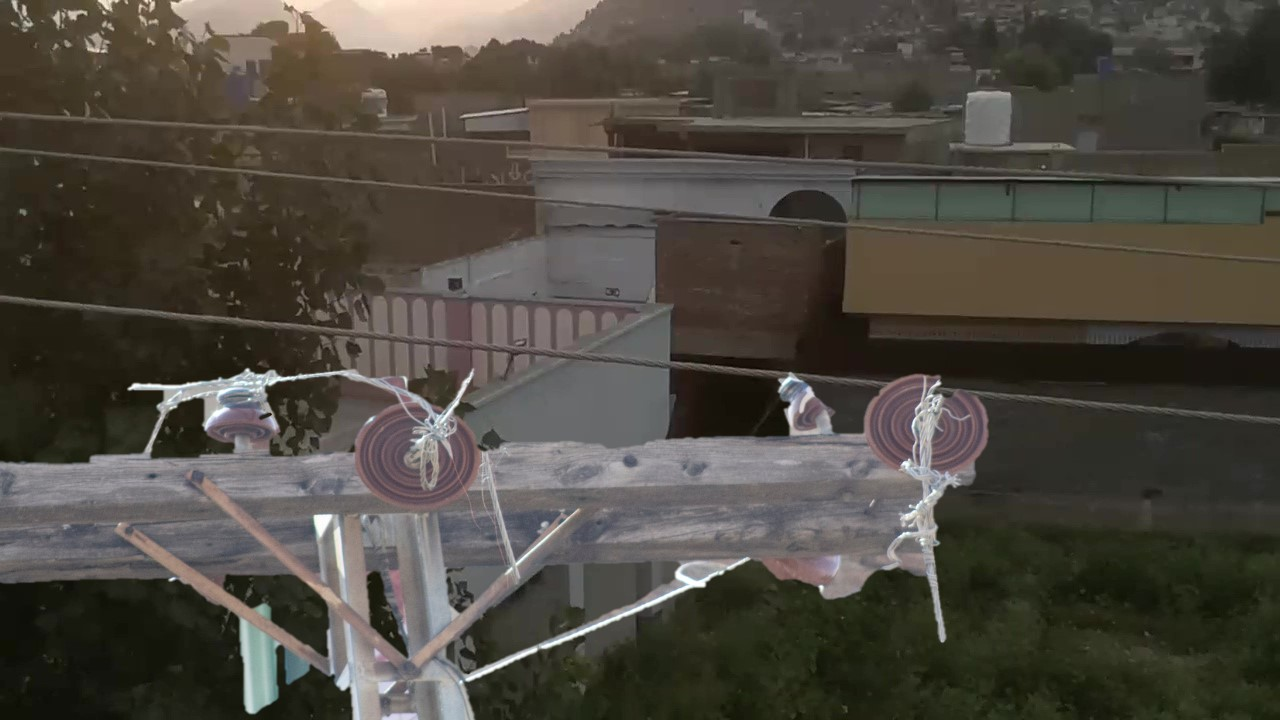defect_pin: (773, 371, 837, 438)
insulator_disc: (350, 392, 487, 511), (859, 368, 992, 479)
insulator_pin: (195, 381, 288, 453)
